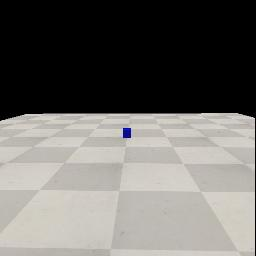box: (123, 128, 131, 138)
